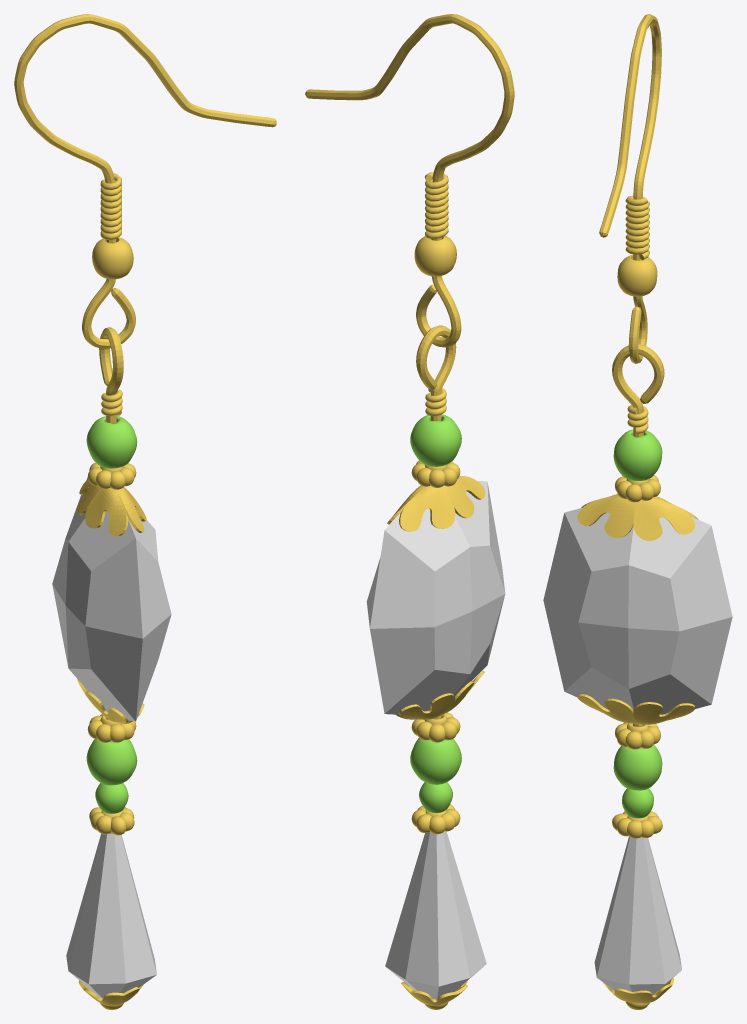
The model's file is earring model.fbx.
The picture shows the model from 3 angles, left to right: view 1: azimuth 30°, elevation 25°; view 2: azimuth 150°, elevation 25°; view 3: azimuth 270°, elevation 25°; orthographic projection. The views are drawn at different scales.
Parts seen in each view (by area): view 1: Cube.163, Cube.167, Plane.042, Cube.161, Cube.162, Cube.160, Plane.043, Spiral.010, Cube.165, Cube.171; view 2: Cube.163, Cube.167, Plane.042, Cube.162, Cube.161, Plane.043, Spiral.010, Cube.160, Cube.165, Cube.171, Cube.169, Cube.168 (+2 smaller); view 3: Cube.163, Cube.167, Cube.162, Plane.042, Cube.161, Plane.043, Spiral.010, Cube.160, Cube.165, Cube.171, Cube.169, Cube.159 (+4 smaller).
Part boxes in pixels (x1,y1,x2,y2): Cube.163: (52,477,171,721); Cube.167: (66,833,156,998); Plane.042: (14,14,276,348); Cube.161: (86,416,137,785); Cube.162: (77,479,146,723); Cube.160: (92,237,133,279); Plane.043: (99,327,123,833); Spiral.010: (100,173,121,239); Cube.165: (89,462,134,742); Cube.171: (95,783,128,813); Cube.163: (366,481,505,714); Cube.167: (385,831,486,999); Plane.042: (305,14,514,347); Cube.162: (387,475,485,719); Cube.161: (410,414,461,784); Plane.043: (416,325,456,718); Spiral.010: (425,172,448,238); Cube.160: (414,235,456,276); Cube.165: (411,462,460,742); Cube.171: (419,782,452,813); Cube.169: (401,980,467,1005); Cube.168: (411,809,460,834); Cube.163: (543,507,732,714); Cube.167: (594,836,681,995); Cube.162: (577,494,698,724); Plane.042: (599,14,661,363); Cube.161: (613,429,662,790); Plane.043: (612,344,664,837); Spiral.010: (625,195,649,259); Cube.160: (617,255,657,296); Cube.165: (617,475,658,748); Cube.171: (622,788,653,818); Cube.169: (603,978,674,1003); Cube.159: (612,813,662,838).
Size of the model in its own units: 3.91 by 15.92 by 2.81.
